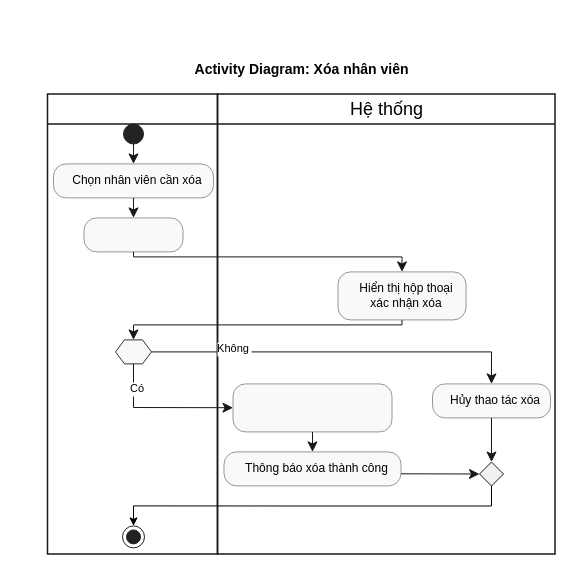
Some shapes in this 573 by 572 pixel diagram are drawn without their labels. The box of each missing label's shape, as (x1, y1, x2, y2) in pixels:
Nhấn nút Xóa: (83, 217, 183, 252)
Quản lý: (46, 93, 218, 554)
Xóa thông tin nhân viên khỏi CSDL: (232, 383, 392, 432)
